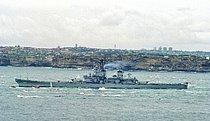MIL_Ship: (13, 58, 191, 90)
